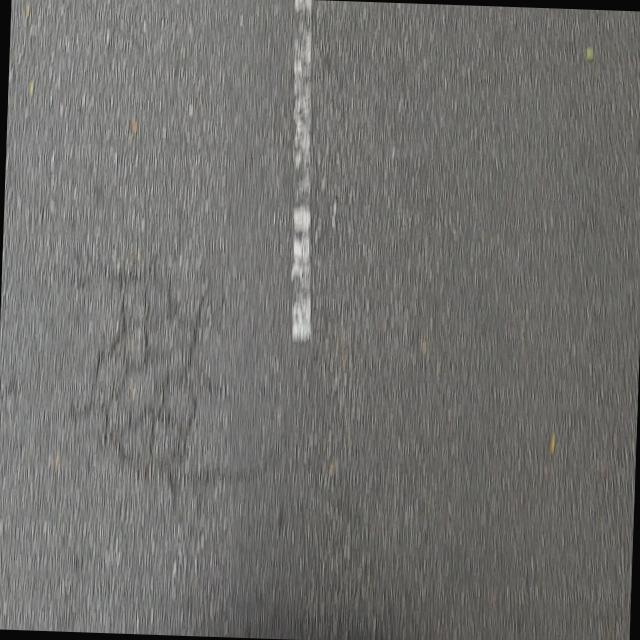Retak-Buaya: (90, 269, 210, 487)
